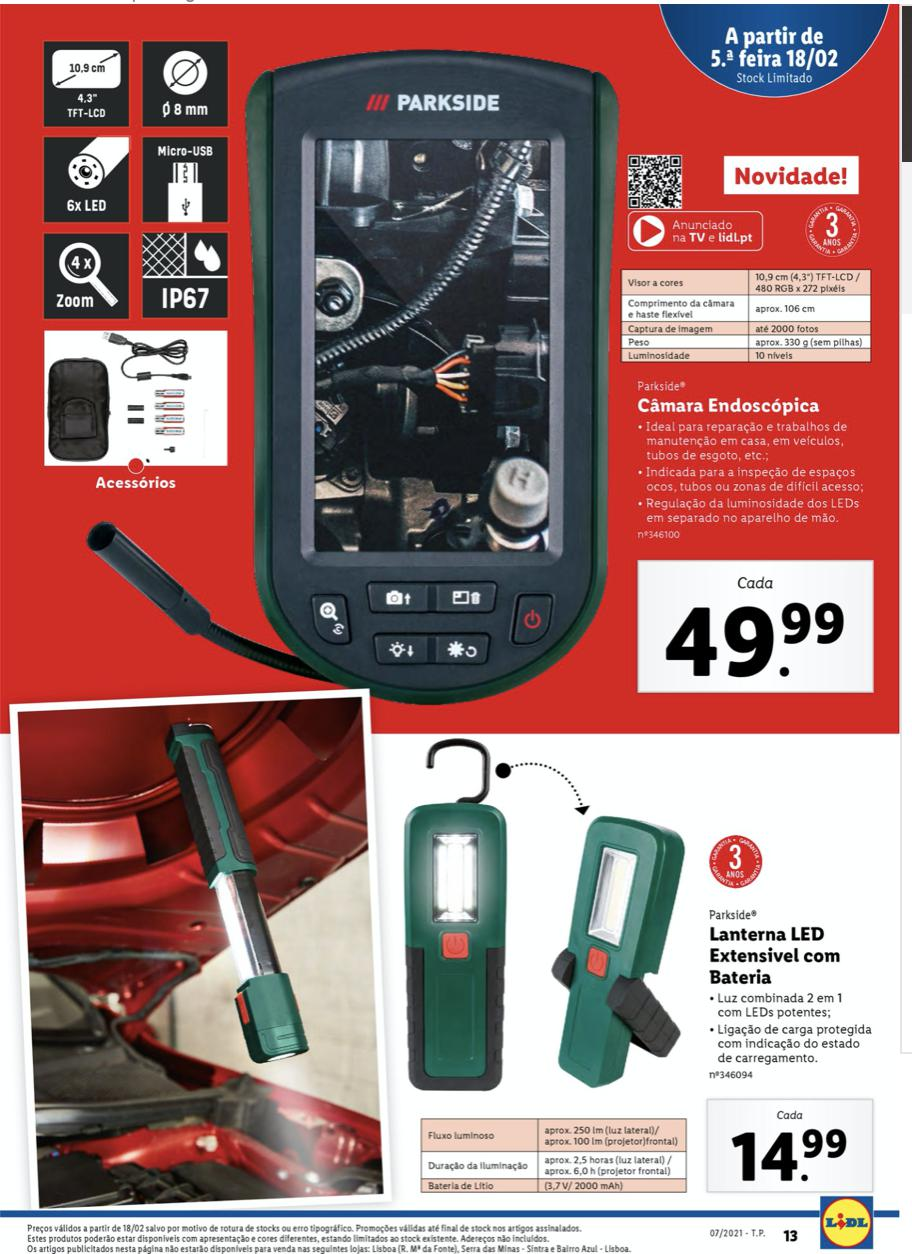name: (707, 921, 845, 992), (634, 390, 827, 421)
price: (662, 601, 848, 681), (731, 1124, 857, 1184)
product: (34, 29, 893, 726), (402, 737, 893, 1193)
